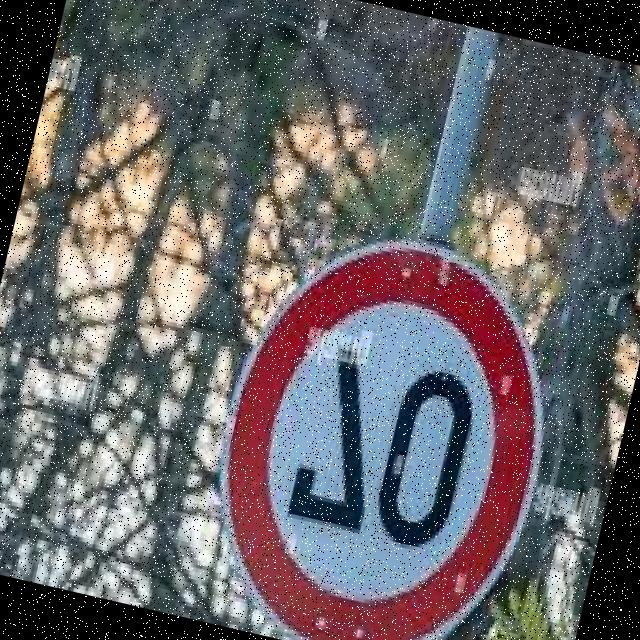speed_limit_70: (178, 209, 587, 640)
